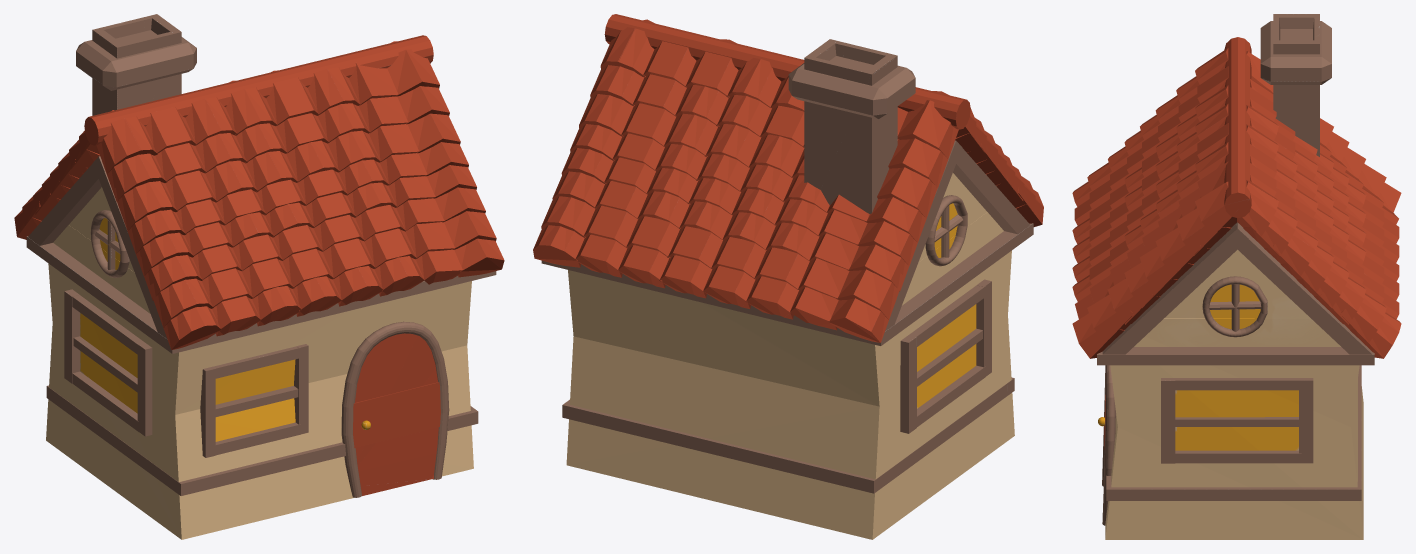
File: RedCW_House1.obj
3 renders of one model, left to right at view 1: azimuth 30°, elevation 25°; view 2: azimuth 150°, elevation 25°; view 3: azimuth 270°, elevation 25°, orthographic. The views are drawn at different scales.
Visible parts, largest first — view 1: ROOF1_lambert5SG, house_body1_blinn2SG, FRAMES1_standardSurface6SG, door2_phongE1SG, chimney_phong3SG, WINDOWSCIRCLE_standardSurface5SG; view 2: ROOF1_lambert5SG, house_body1_blinn2SG, FRAMES1_standardSurface6SG, chimney_phong3SG, WINDOWSCIRCLE_standardSurface5SG; view 3: ROOF1_lambert5SG, house_body1_blinn2SG, FRAMES1_standardSurface6SG, chimney_phong3SG, WINDOWSCIRCLE_standardSurface5SG.
Boxes of the visible parts, x1,y1,x2,y2 form: ROOF1_lambert5SG: [14, 35, 504, 349]; house_body1_blinn2SG: [46, 187, 473, 539]; FRAMES1_standardSurface6SG: [26, 156, 496, 497]; door2_phongE1SG: [353, 333, 440, 495]; chimney_phong3SG: [76, 14, 196, 115]; WINDOWSCIRCLE_standardSurface5SG: [90, 210, 129, 277]; ROOF1_lambert5SG: [533, 14, 1043, 342]; house_body1_blinn2SG: [566, 173, 1014, 539]; FRAMES1_standardSurface6SG: [541, 140, 1033, 493]; chimney_phong3SG: [788, 39, 915, 213]; WINDOWSCIRCLE_standardSurface5SG: [925, 195, 967, 266]; ROOF1_lambert5SG: [1072, 37, 1401, 358]; house_body1_blinn2SG: [1105, 249, 1363, 539]; FRAMES1_standardSurface6SG: [1097, 222, 1374, 525]; chimney_phong3SG: [1260, 14, 1331, 156]; WINDOWSCIRCLE_standardSurface5SG: [1202, 276, 1267, 337].
Size of the model in its own units: 2.65 by 3.19 by 2.37.
7 materials, 7 textured.
